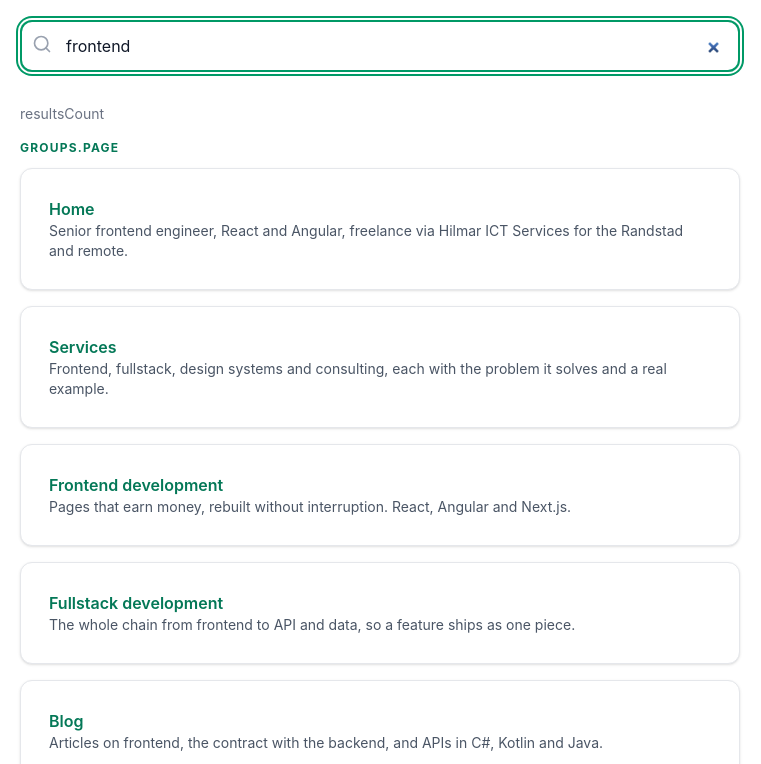
SearchPageContent › shows matching results and filters as the user types (en)
The image size is (761, 764).
Expected: the text "Frontend development" is shown, [49, 475, 223, 495]
Replace the text in the search field named "inputLabel" with "zzz-no-match" at point(380, 46), box [20, 20, 740, 72]
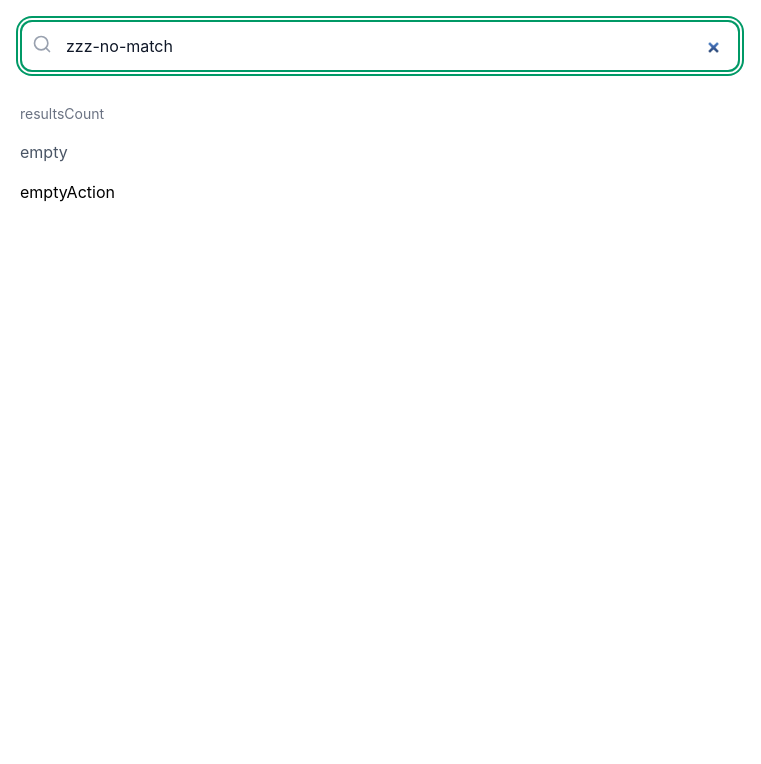
Expected: the link "Frontend development" is gone
Expected: the text "empty" is shown, [20, 142, 68, 162]
